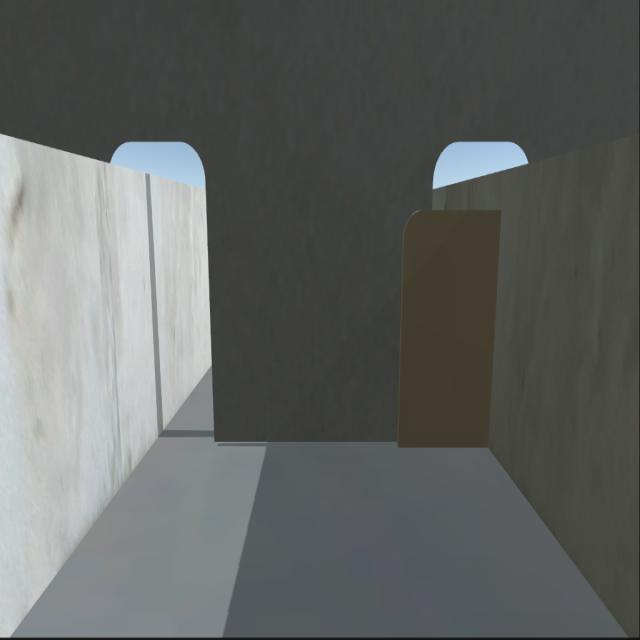fillet_yong_jeop_jang: (215, 433, 488, 449)
longi_yong_jeop_jang: (484, 213, 503, 450)
plate_CP03: (398, 203, 495, 447)
